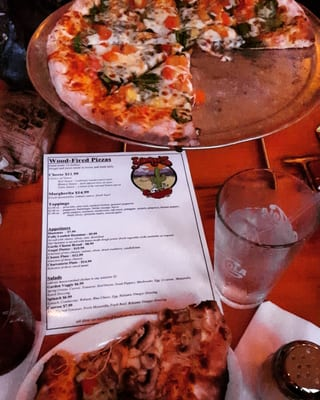pizza: (213, 169, 319, 309)
